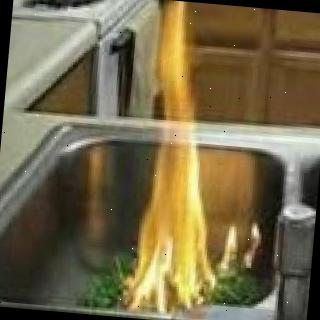fire: (122, 0, 236, 317), (219, 228, 269, 280)
